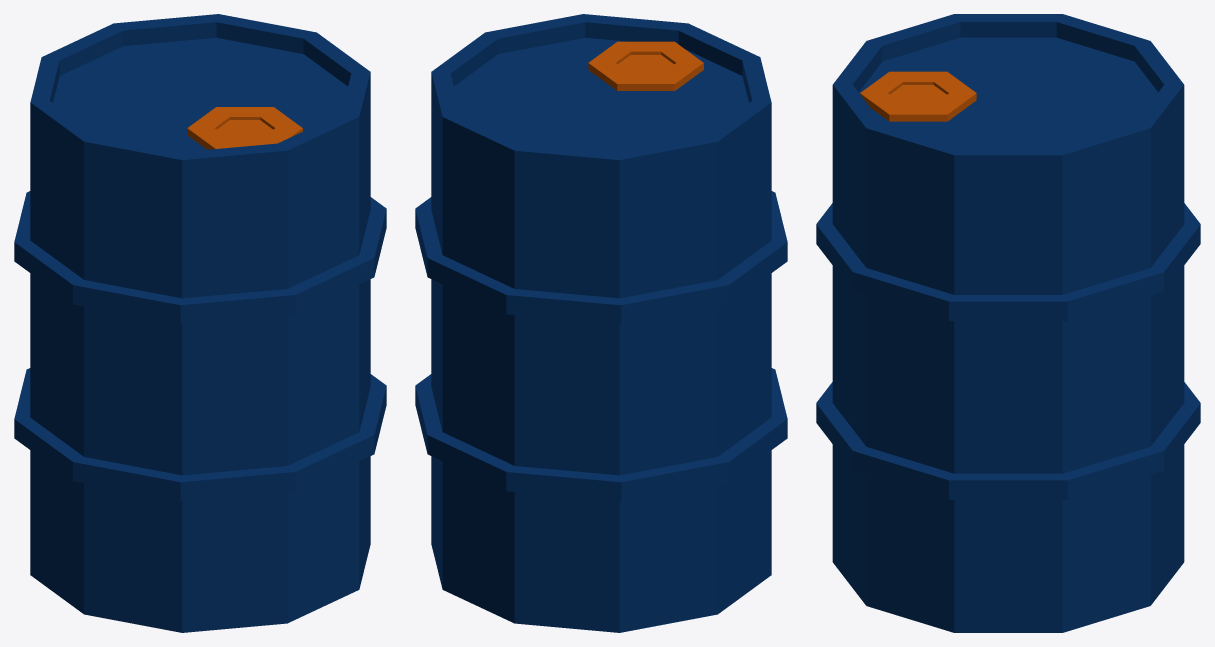
The model's file is OilDrum_02.fbx.
3 renders of one model, left to right at view 1: azimuth 30°, elevation 25°; view 2: azimuth 150°, elevation 25°; view 3: azimuth 270°, elevation 25°, orthographic.
Visible parts, largest first — view 1: OilDrum_02; view 2: OilDrum_02; view 3: OilDrum_02.
Boxes of the visible parts, box(x1,y1,x2,y2) form: OilDrum_02: box(14, 14, 386, 632); OilDrum_02: box(415, 14, 787, 632); OilDrum_02: box(816, 14, 1200, 632).
Bounding box in the file's own units: 326 × 470 × 343.
